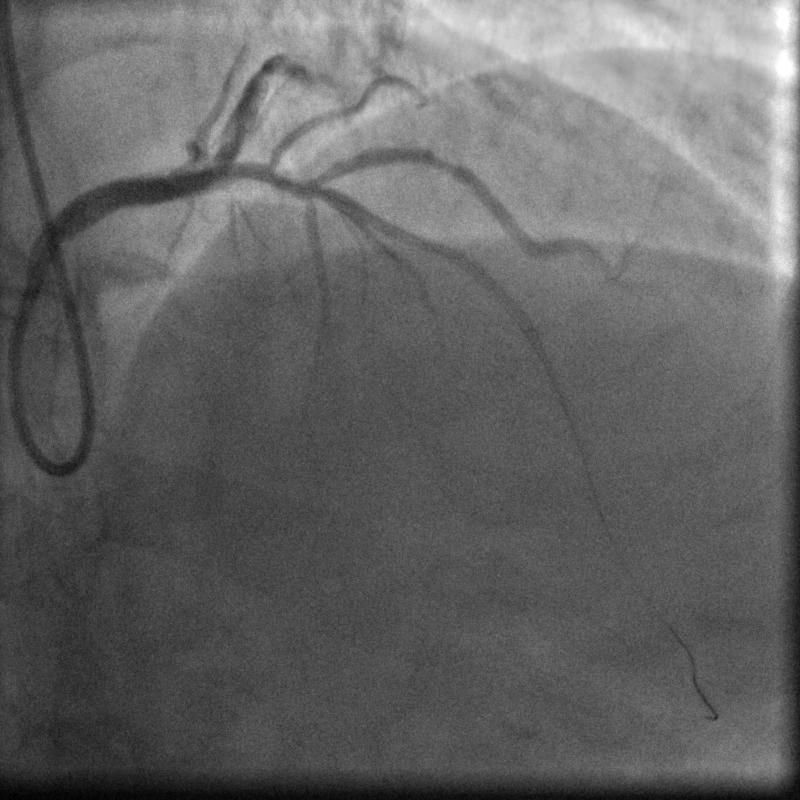Stenosis: (420, 142, 459, 182)
